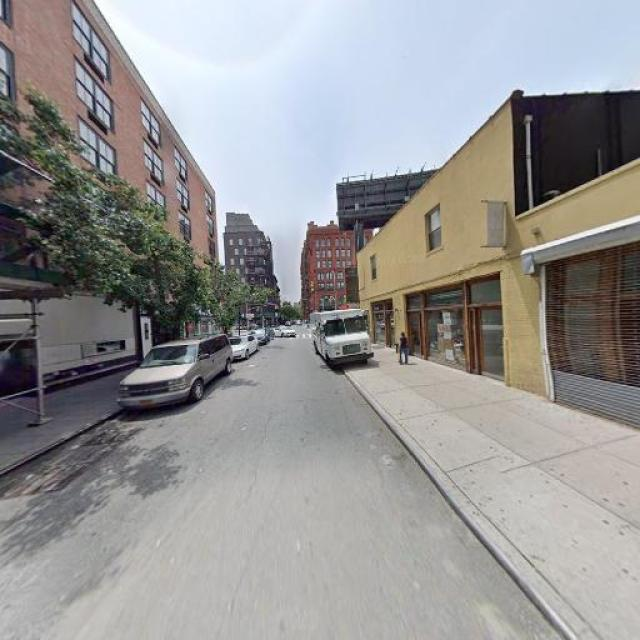Building: (360, 112, 640, 429), (1, 1, 219, 398)
